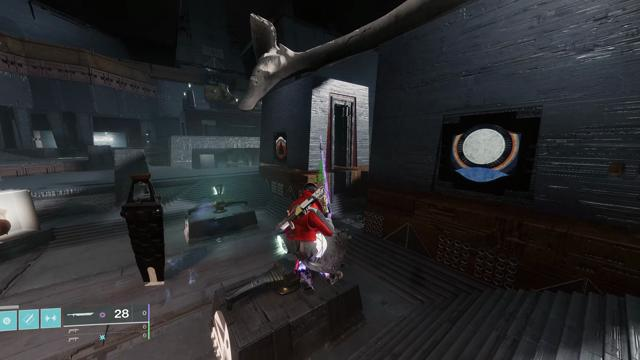pyramid: (276, 136, 287, 159)
traveler: (449, 124, 522, 182)
